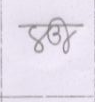i_matra: (54, 17, 73, 53)
